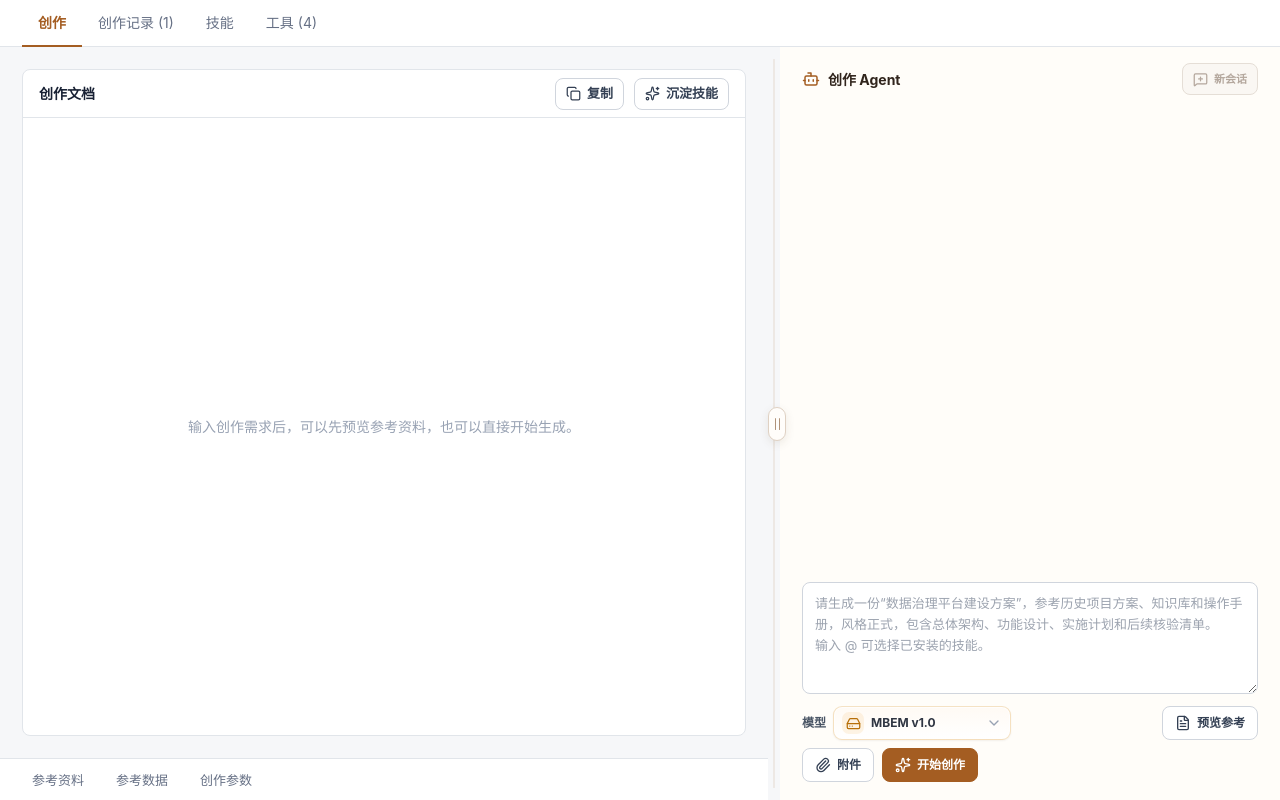
创作记录搜索与分页 › 为未保存来源编号的旧创作记录重新匹配并展示具体数据
Click the button "创作记录 (1)".
click(136, 24)  # box left=82, top=0, right=190, bottom=47
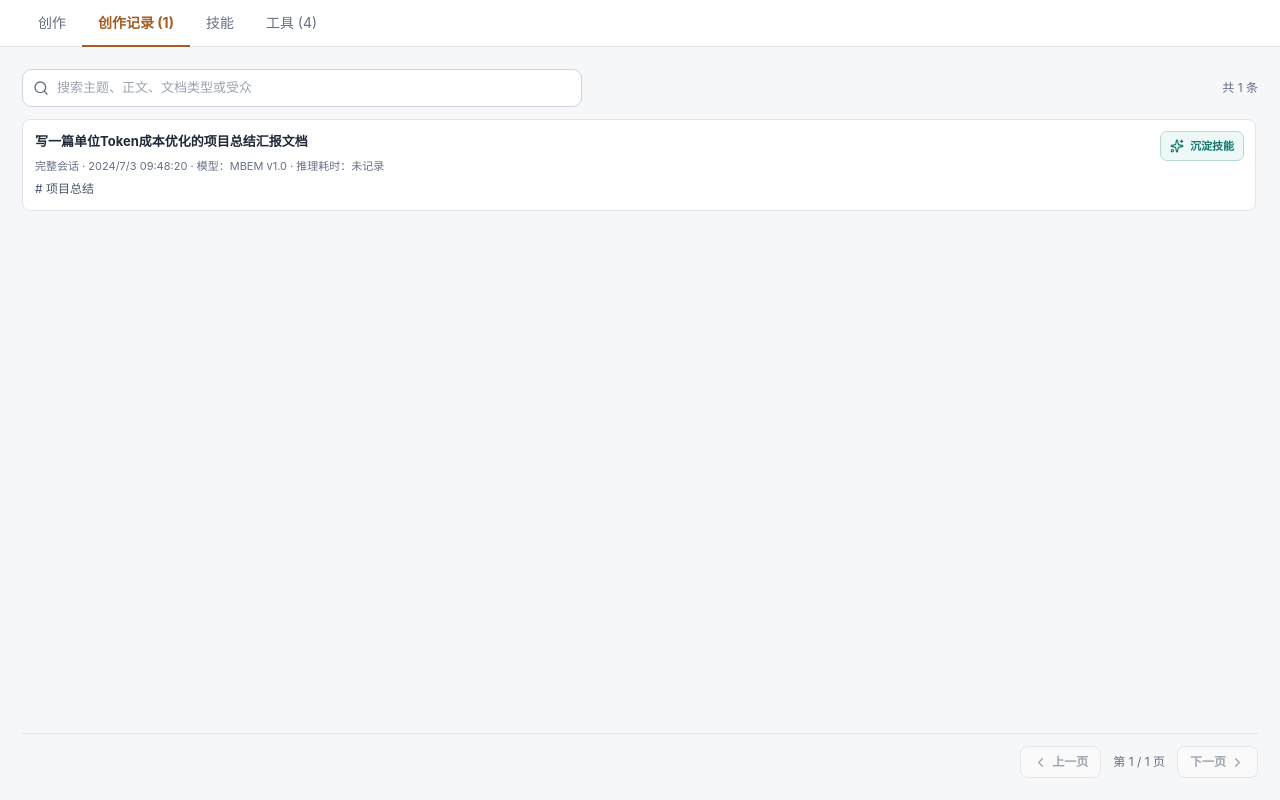
Click the text "写一篇单位Token成本优化的项目总结汇报文档".
click(171, 141)  # box left=35, top=133, right=308, bottom=149
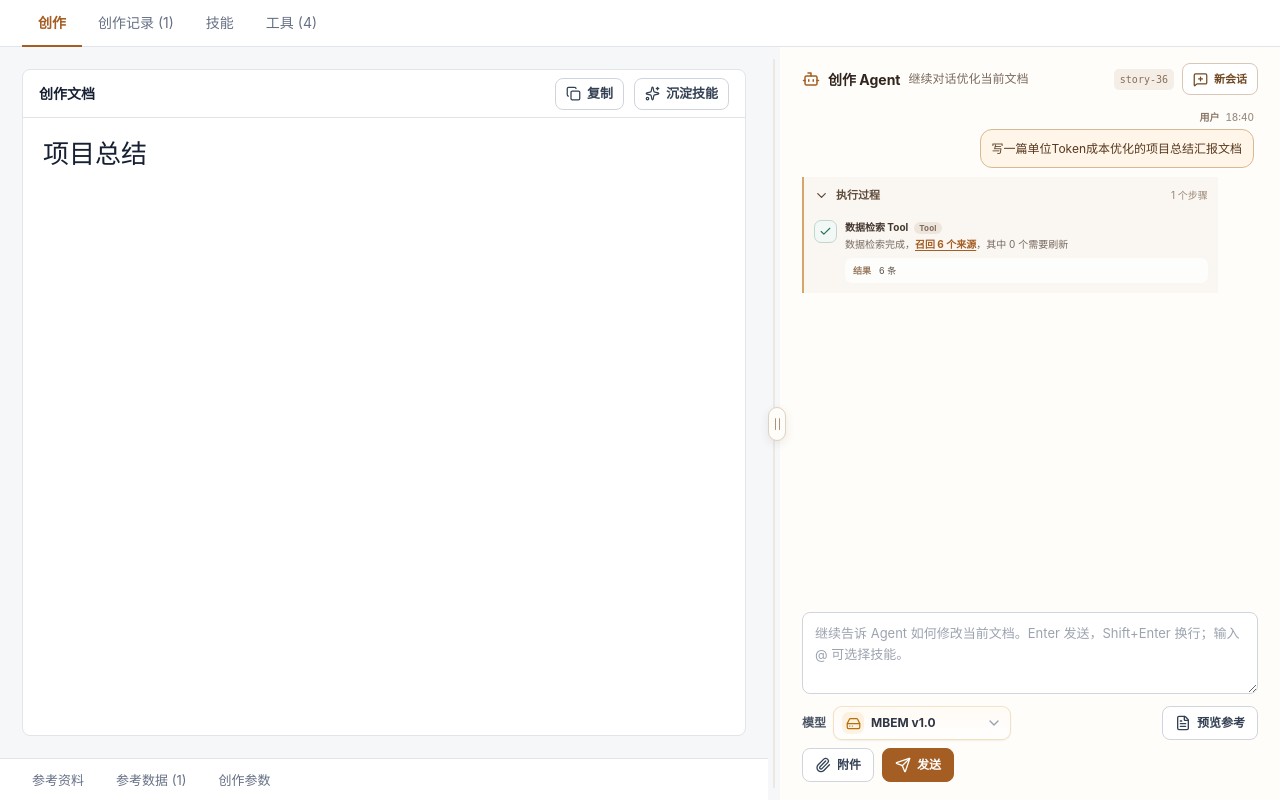
Click the tab "参考数据 (1)".
click(151, 779)  # box left=100, top=758, right=202, bottom=799
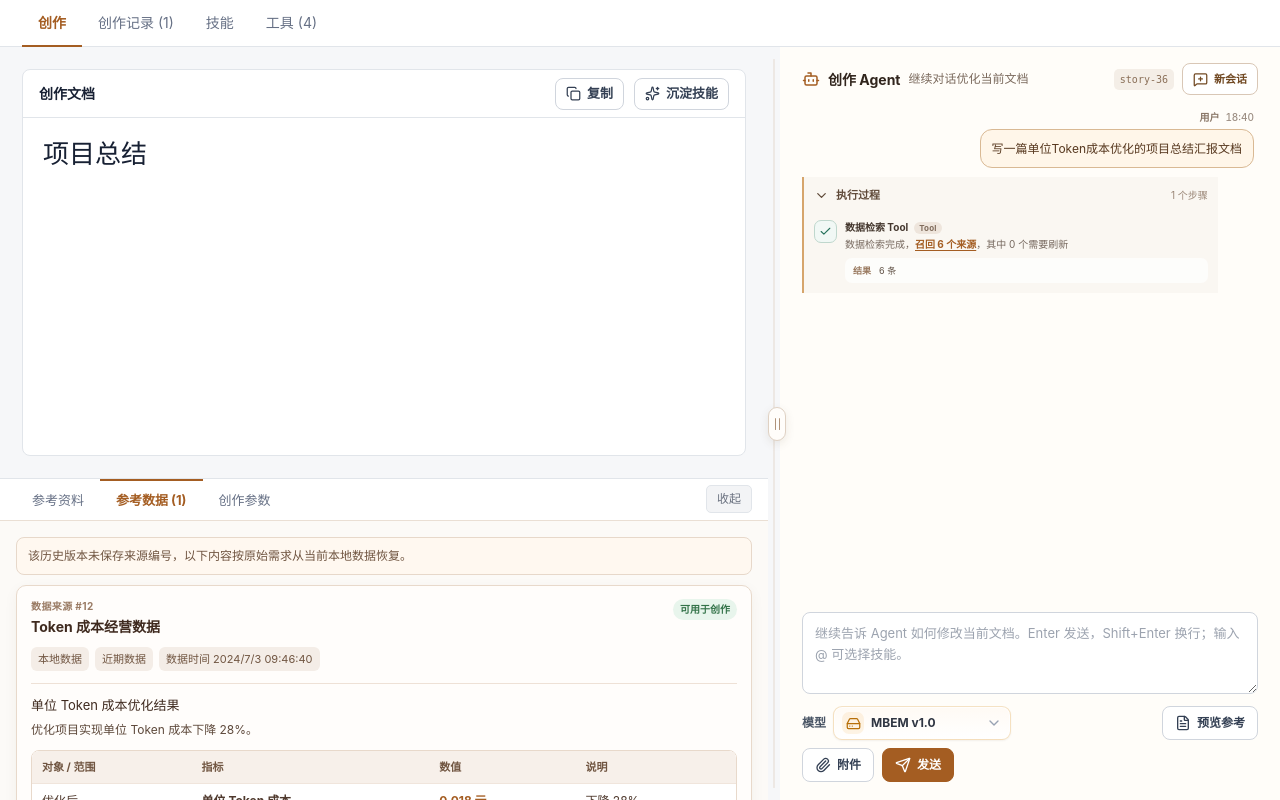
Expected: the heading "单位 Token 成本优化结果" is shown, left=31, top=697, right=180, bottom=713
Expected: the text "优化项目实现单位 Token 成本下降 28%。" is shown, left=31, top=722, right=258, bottom=737
Expected: the text "该历史版本未保存来源编号，以下内容按原始需求从当前本地数据恢复。" is shown, left=16, top=537, right=752, bottom=575
